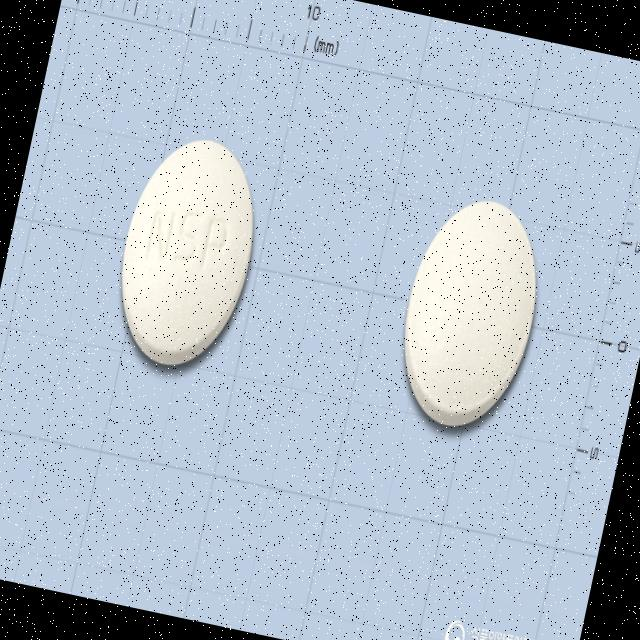Ciproctan - 500mg: (97, 122, 284, 390), (379, 180, 561, 450)
